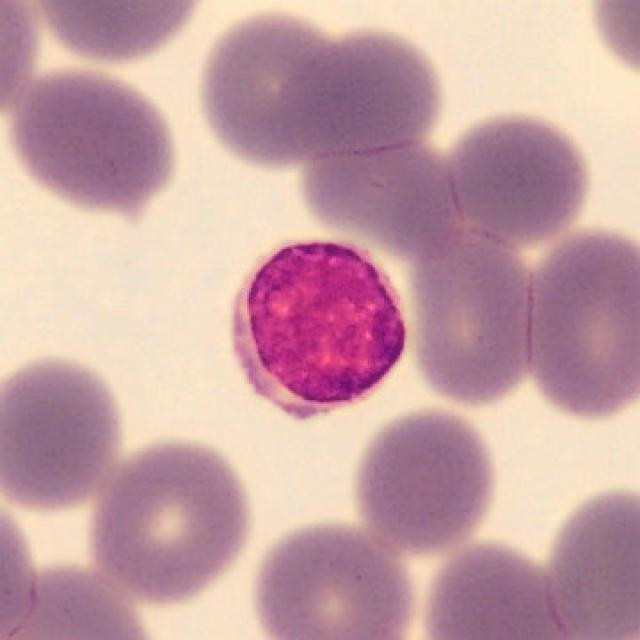Linfocito: (229, 240, 409, 421)
